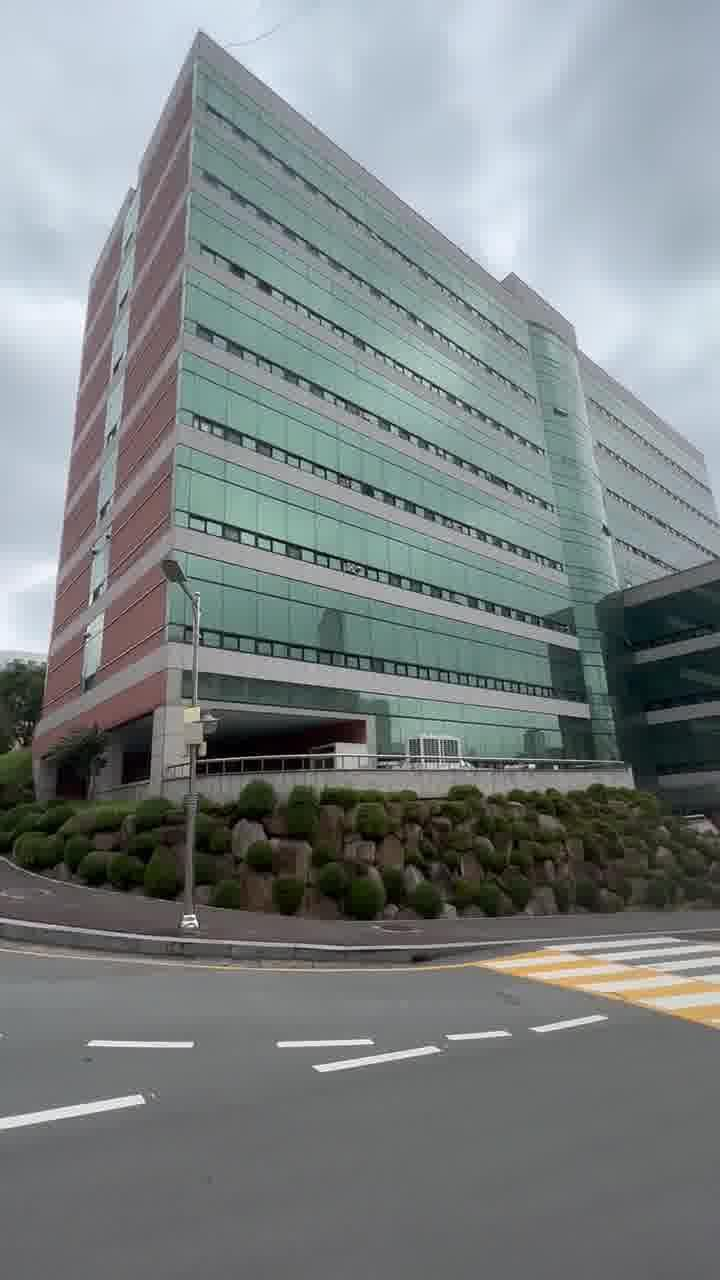building: (86, 110, 620, 784)
